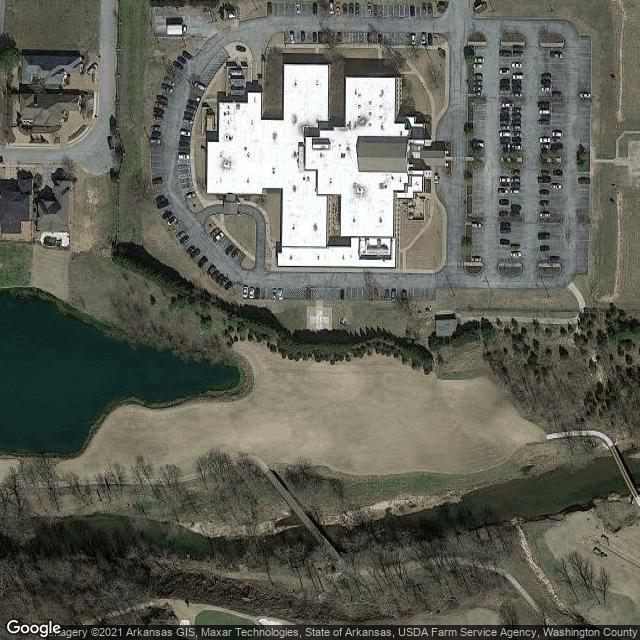Helipad: (304, 303, 335, 330)
